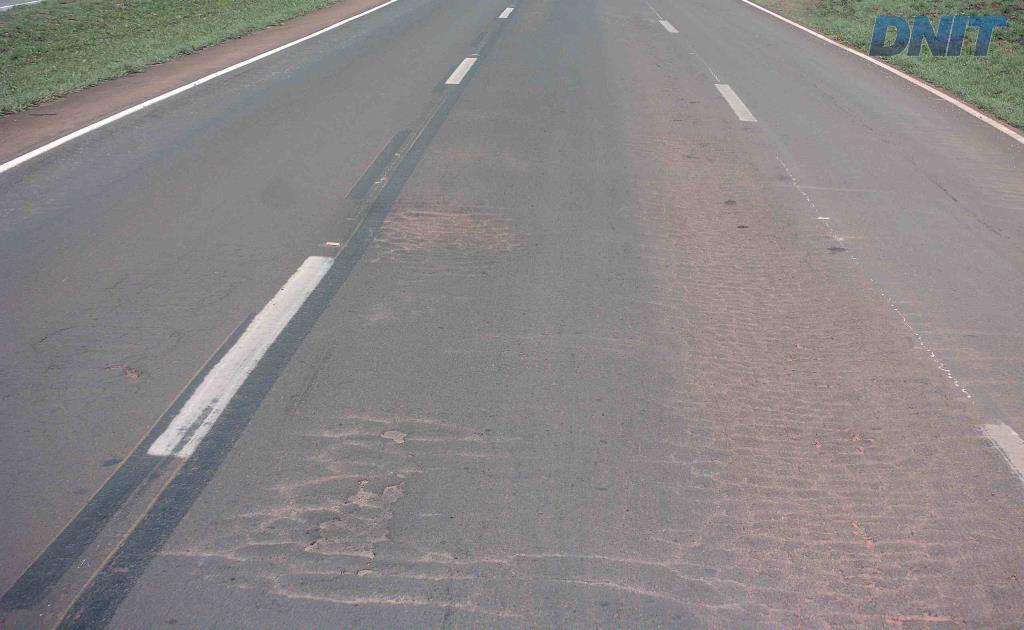pothole: (289, 468, 405, 565), (368, 419, 415, 446)
